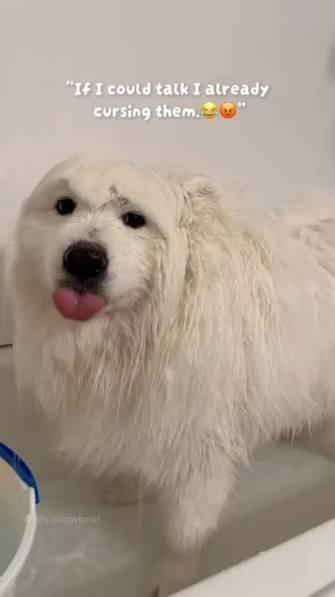adult_dog: (10, 148, 335, 563)
